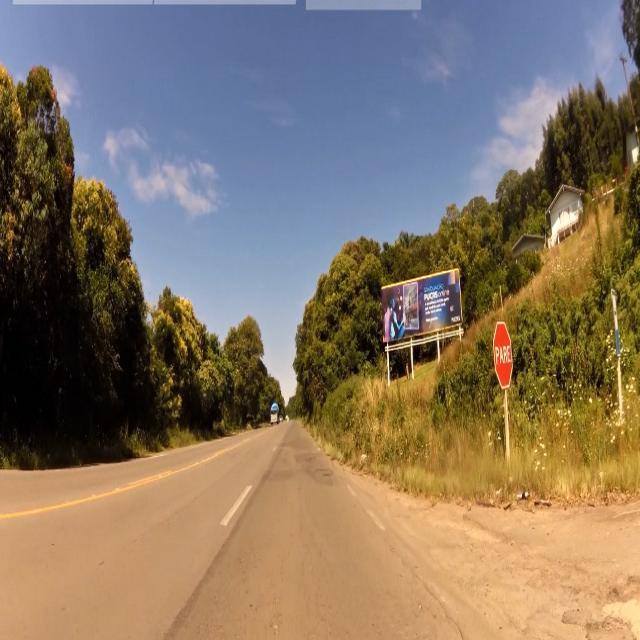R-1: (493, 322, 515, 392)
